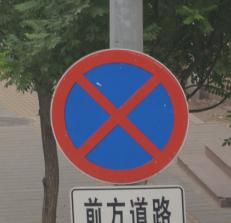No Parking: (53, 48, 194, 193)
